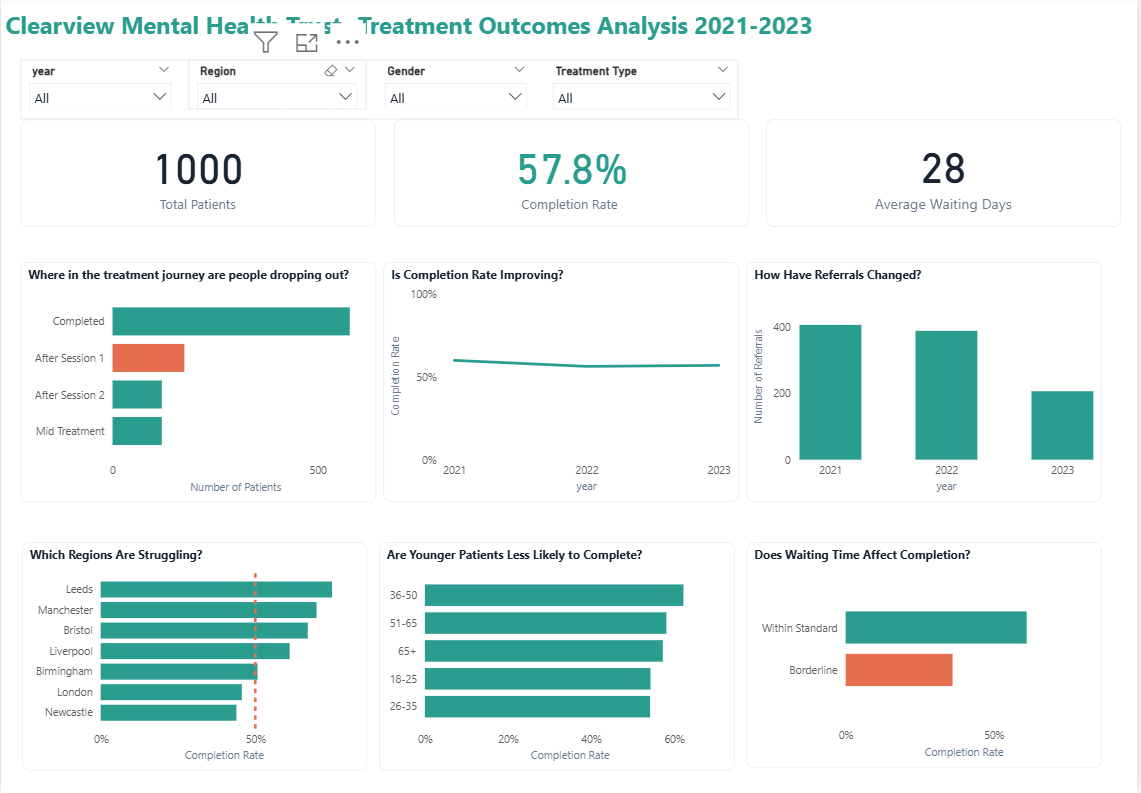

The page's visual inventory and layout, read from the dashboard file:
{"tool":"powerbi","page":{"name":"clearview_dashboard","canvas":[1280,900],"ordinal":0},"visuals":[{"type":"textbox","box":[0,10,1441.4,55.2],"z":0},{"type":"card","fields":{"Values":["appointments.Totalpatients"]},"box":[22.4,139.7,400,120.7],"z":0,"group":"g2"},{"type":"clusteredBarChart","title":"Where in the treatment journey are people dropping out?","fields":{"Category":["outcomes.DropoutStage"],"Y":["CountNonNull(outcomes.PatientID)"]},"box":[22,300,400.4,270.3],"z":0,"group":"g4"},{"type":"clusteredBarChart","title":"Which Regions Are Struggling?","fields":{"Category":["demographics.Region"],"Y":["appointments.% COMPLETION_RATE"]},"box":[23.7,616.7,388.6,256.8],"z":0,"group":"g3"},{"type":"group","id":"g1","title":"Group 1","box":[22.4,72.4,808.6,67.2],"z":1000},{"type":"card","fields":{"Values":["appointments.% COMPLETION_RATE"]},"box":[442.6,139.7,400,120.7],"z":1000,"group":"g2"},{"type":"lineChart","title":"Is Completion Rate Improving?","fields":{"Y":["appointments.% COMPLETION_RATE"],"Category":["referrals.year"]},"box":[431.2,300,400,270],"z":1000,"group":"g4"},{"type":"clusteredBarChart","title":"Are Younger Patients Less Likely to Complete?","fields":{"Y":["appointments.% COMPLETION_RATE"],"Category":["demographics.AgeGroup"]},"box":[426,616.7,400.4,256.8],"z":1000,"group":"g3"},{"type":"slicer","fields":{"Values":["referrals.Region"]},"box":[212.4,72.4,200,55],"z":2000,"group":"g1"},{"type":"group","id":"g2","title":"Group 2","box":[22.4,139.7,1239.7,120.7],"z":2000},{"type":"card","fields":{"Values":["referrals.avy_waiting days"]},"box":[862.7,139.7,400,120.7],"z":2000,"group":"g2"},{"type":"clusteredColumnChart","title":" How Have Referrals Changed?","fields":{"Category":["referrals.year"],"Y":["CountNonNull(referrals.PatientID)"]},"box":[840,300,400,270],"z":2000,"group":"g4"},{"type":"clusteredBarChart","title":"Does Waiting Time Affect Completion?","fields":{"Category":["referrals.waitingdays_band"],"Y":["appointments.% COMPLETION_RATE"]},"box":[840,616.7,400,253],"z":2000,"group":"g3"},{"type":"group","id":"g3","title":"Group 3","box":[23.7,616.7,1216.5,256.8],"z":3000},{"type":"slicer","fields":{"Values":["referrals.year"]},"box":[22.4,72.4,180,55],"z":4000,"group":"g1"},{"type":"group","id":"g4","title":"Group 4","box":[22,300,1218,270.3],"z":4000},{"type":"slicer","fields":{"Values":["demographics.Gender"]},"box":[422.4,72.4,180,55.4],"z":6000,"group":"g1"},{"type":"slicer","fields":{"Values":["outcomes.TreatmentType"]},"box":[612.4,72.4,220,67.7],"z":8000,"group":"g1"}]}

Visuals, with their boxes on the page's 1280x900 design canvas (x1, y1, x2, y2). These are canvas units, not pixel positions in the 1141x793 screenshot, which may show the page scaled, cropped or inside an application window:
textbox: <box>0,10,1441,65</box>
card - appointments.Totalpatients: <box>22,140,422,260</box>
"Where in the treatment journey are people dropping out?" clusteredBarChart: <box>22,300,422,570</box>
"Which Regions Are Struggling?" clusteredBarChart: <box>24,617,412,874</box>
"Group 1" group: <box>22,72,831,140</box>
card - appointments.% COMPLETION_RATE: <box>443,140,843,260</box>
"Is Completion Rate Improving?" lineChart: <box>431,300,831,570</box>
"Are Younger Patients Less Likely to Complete?" clusteredBarChart: <box>426,617,826,874</box>
slicer - referrals.Region: <box>212,72,412,127</box>
"Group 2" group: <box>22,140,1262,260</box>
card - referrals.avy_waiting days: <box>863,140,1263,260</box>
" How Have Referrals Changed?" clusteredColumnChart: <box>840,300,1240,570</box>
"Does Waiting Time Affect Completion?" clusteredBarChart: <box>840,617,1240,870</box>
"Group 3" group: <box>24,617,1240,874</box>
slicer - referrals.year: <box>22,72,202,127</box>
"Group 4" group: <box>22,300,1240,570</box>
slicer - demographics.Gender: <box>422,72,602,128</box>
slicer - outcomes.TreatmentType: <box>612,72,832,140</box>
